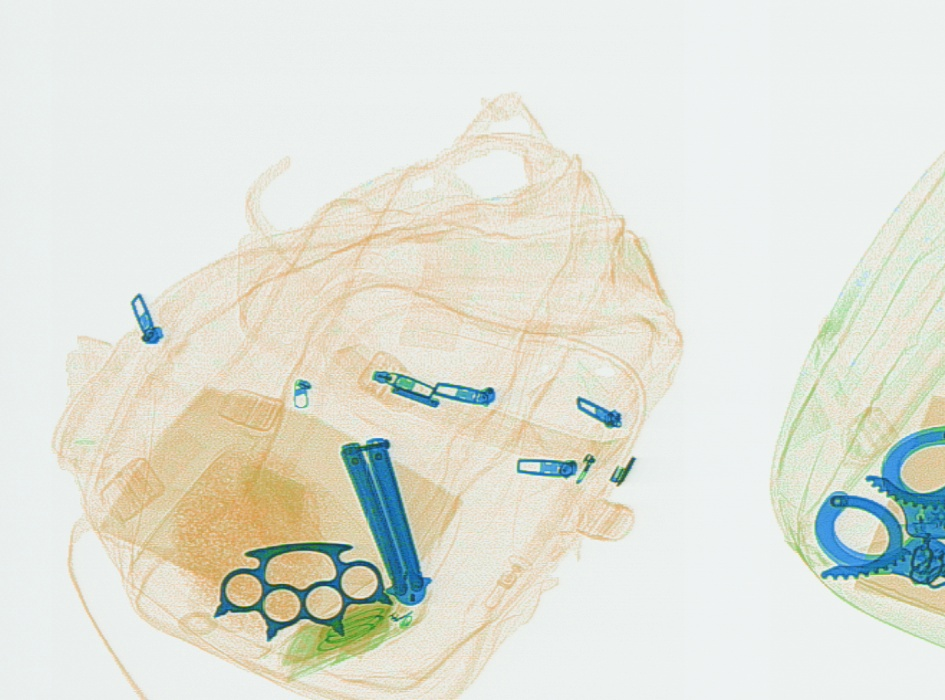handcuffs: (811, 423, 943, 587)
knife: (336, 438, 434, 606)
